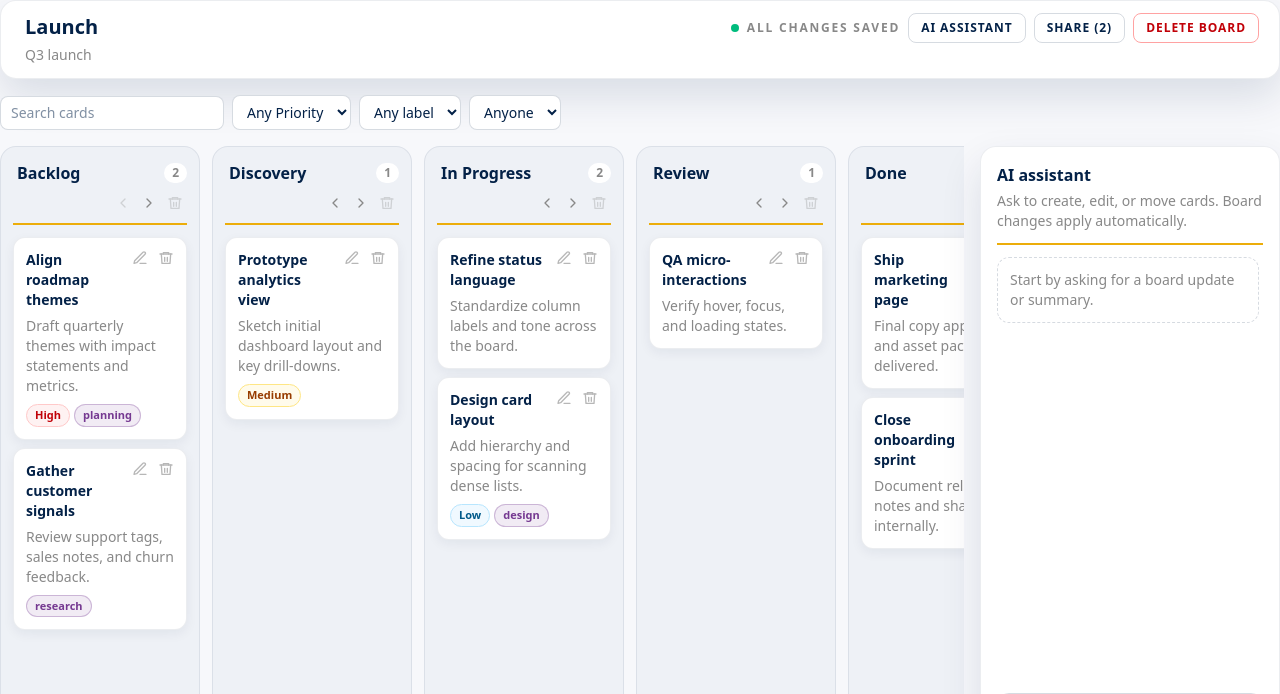
Test: KanbanBoard › shows unsaved state and retries a failed save
Click the button named "Delete Align roadmap themes" at (166, 258), box top-left (154, 246), bottom-right (178, 270)
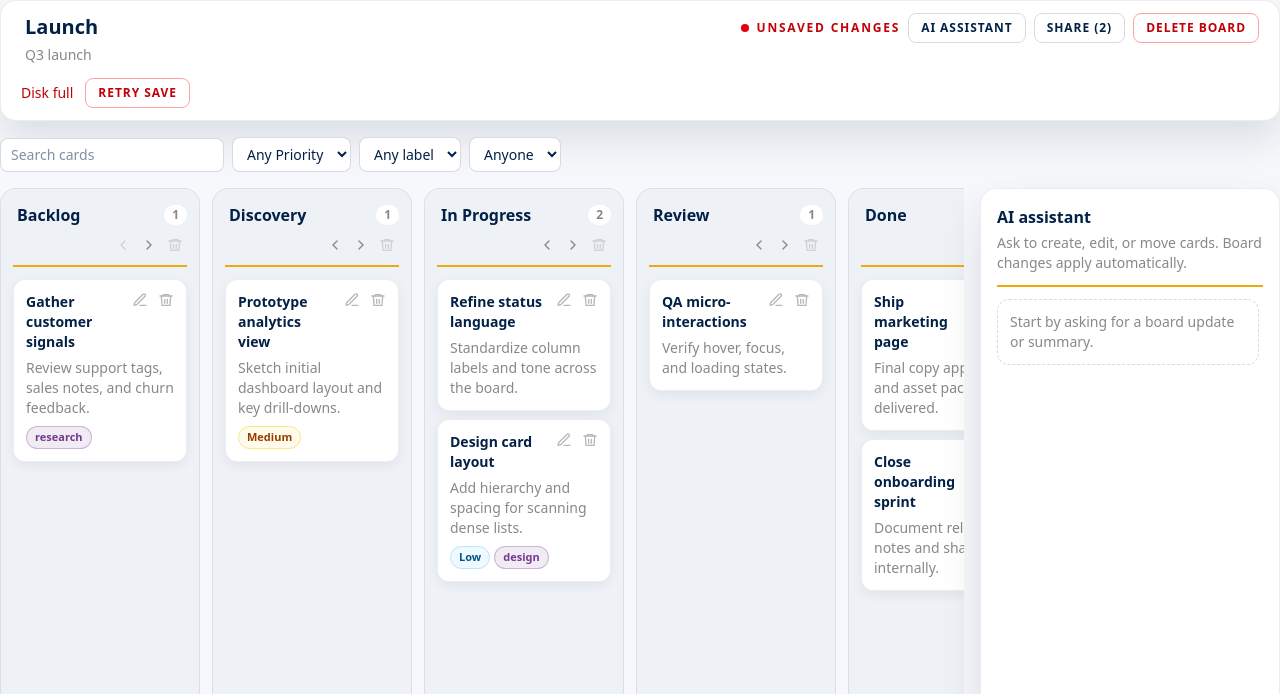
Check: the text "Disk full" is shown, box top-left (21, 83), bottom-right (73, 103)
Check: the text "Unsaved changes" is shown, box top-left (740, 20), bottom-right (900, 36)
Click the button "Retry save" at (138, 93), box top-left (85, 78), bottom-right (190, 108)
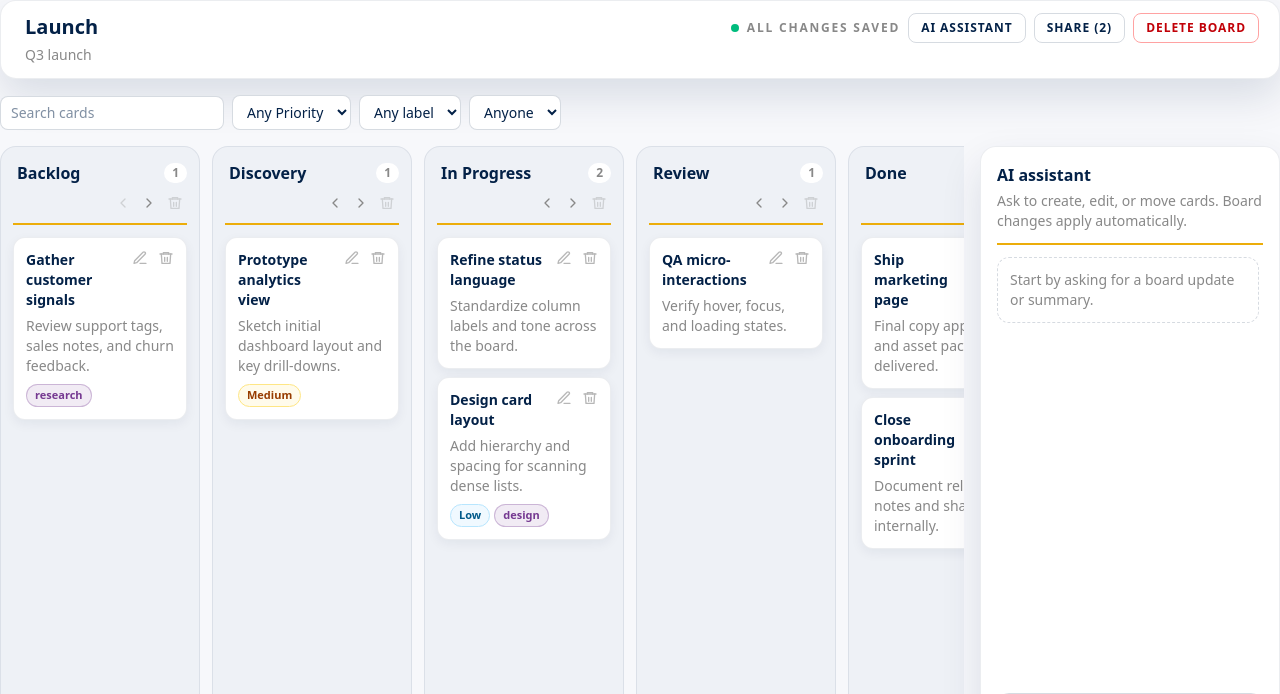
Check: the text "All changes saved" is shown, box top-left (731, 20), bottom-right (900, 36)
